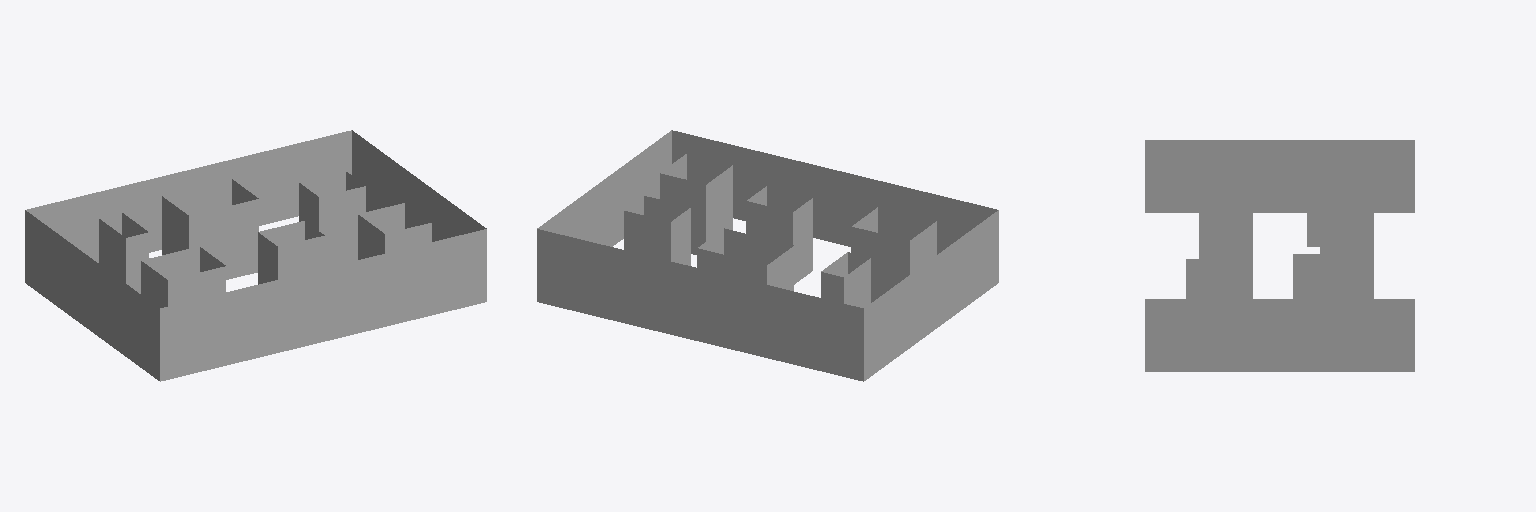
Rendered from map_mini_col.obj.
The picture shows the model from 3 angles: view 1: azimuth 30°, elevation 25°; view 2: azimuth 150°, elevation 25°; view 3: azimuth 270°, elevation 25°; orthographic projection.
Visible parts, largest first — view 1: 平面.003, 平面, 平面.002, 立方体.001, 平面.001, 立方体.002, 立方体.006, 立方体.005, 立方体.004, 立方体.003; view 2: 平面, 平面.003, 平面.002, 平面.001, 立方体.006, 立方体.004, 立方体.001, 立方体.005, 立方体.002, 立方体.003; view 3: 平面.001, 平面.002, 立方体.001, 立方体.006, 立方体.003, 立方体.005, 立方体.004, 立方体.002.
Boxes of the visible parts, x1=… form: 平面.003: x1=160, y1=229, x2=486, y2=381; 平面: x1=26, y1=130, x2=351, y2=262; 平面.002: x1=25, y1=210, x2=159, y2=380; 立方体.001: x1=162, y1=179, x2=258, y2=279; 平面.001: x1=352, y1=130, x2=486, y2=241; 立方体.002: x1=299, y1=171, x2=365, y2=267; 立方体.006: x1=141, y1=246, x2=225, y2=307; 立方体.005: x1=258, y1=221, x2=324, y2=284; 立方体.004: x1=358, y1=203, x2=431, y2=259; 立方体.003: x1=99, y1=213, x2=148, y2=293; 平面: x1=537, y1=229, x2=863, y2=381; 平面.003: x1=672, y1=130, x2=997, y2=254; 平面.002: x1=864, y1=210, x2=998, y2=380; 平面.001: x1=537, y1=130, x2=671, y2=246; 立方体.006: x1=851, y1=207, x2=936, y2=302; 立方体.004: x1=660, y1=154, x2=732, y2=254; 立方体.001: x1=697, y1=228, x2=793, y2=290; 立方体.005: x1=746, y1=186, x2=812, y2=284; 立方体.002: x1=624, y1=196, x2=690, y2=265; 立方体.003: x1=821, y1=252, x2=870, y2=307; 平面.001: x1=1145, y1=299, x2=1414, y2=371; 平面.002: x1=1145, y1=140, x2=1414, y2=212; 立方体.001: x1=1320, y1=197, x2=1373, y2=298; 立方体.006: x1=1199, y1=157, x2=1252, y2=258; 立方体.003: x1=1307, y1=162, x2=1360, y2=246; 立方体.005: x1=1213, y1=214, x2=1252, y2=298; 立方体.004: x1=1186, y1=259, x2=1239, y2=298; 立方体.002: x1=1293, y1=254, x2=1333, y2=298.
Bounding box in the file's own units: 280 × 60 × 200.